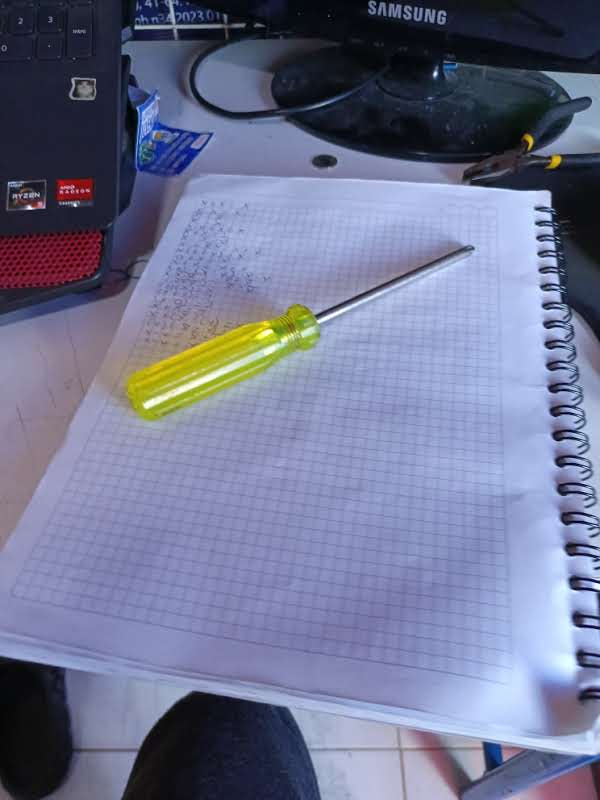Destornillador: (127, 247, 473, 418)
